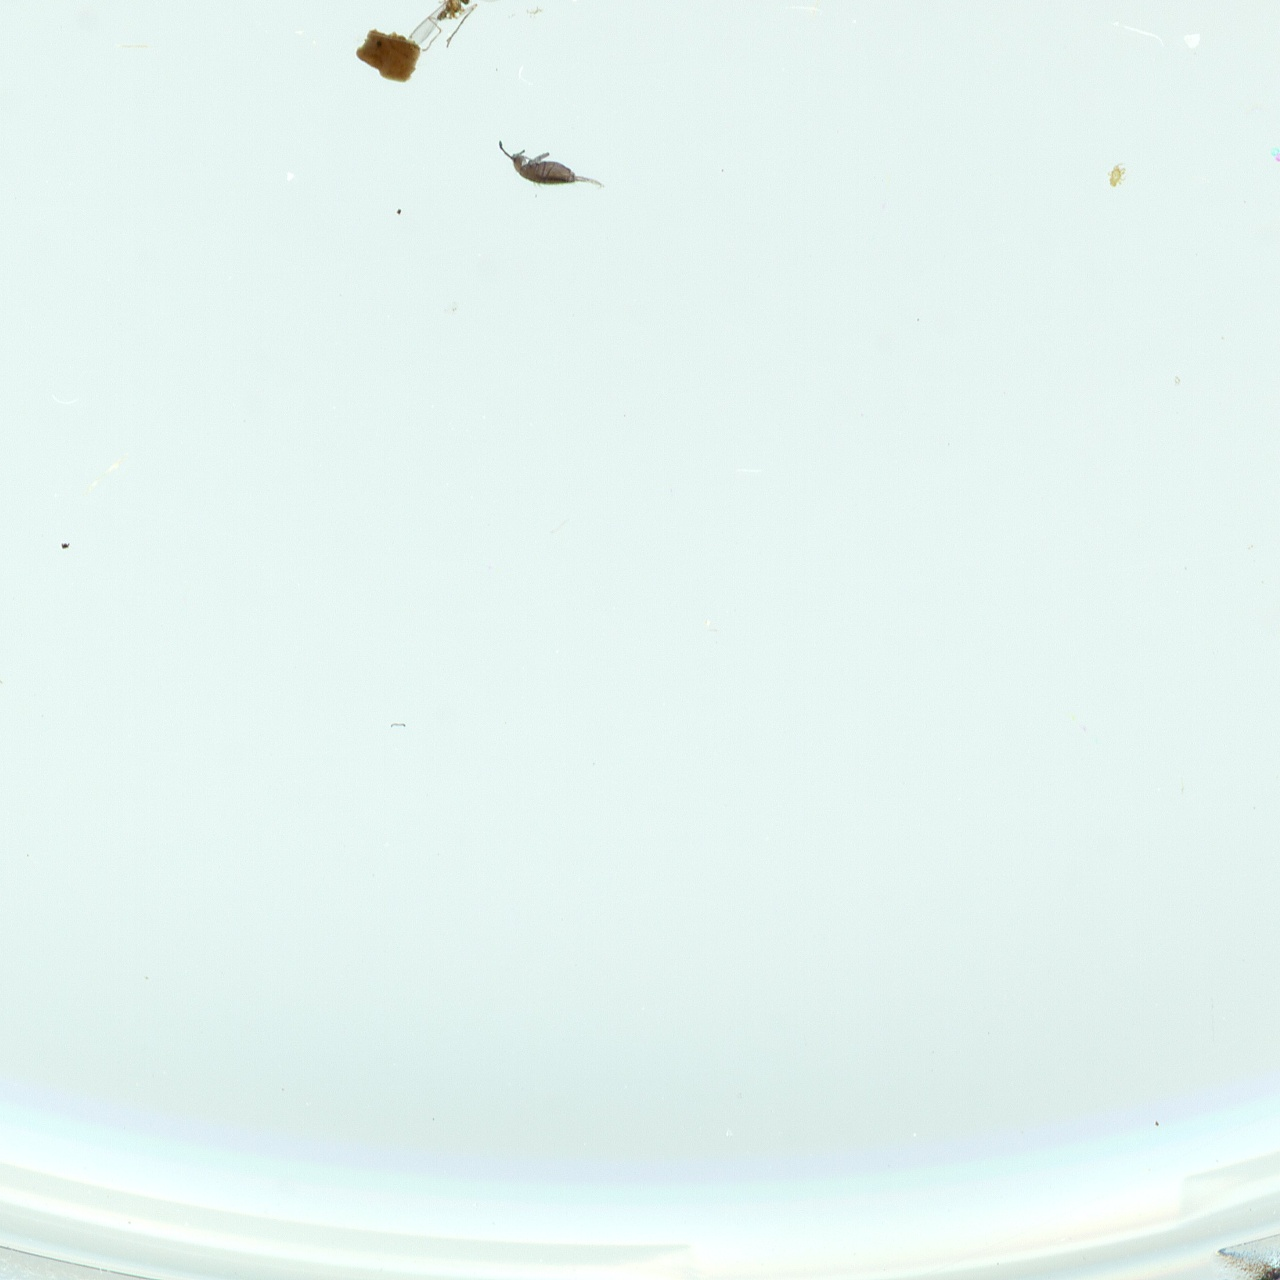arthropod: (400, 0, 515, 54), (496, 136, 604, 188), (1107, 163, 1128, 189)
